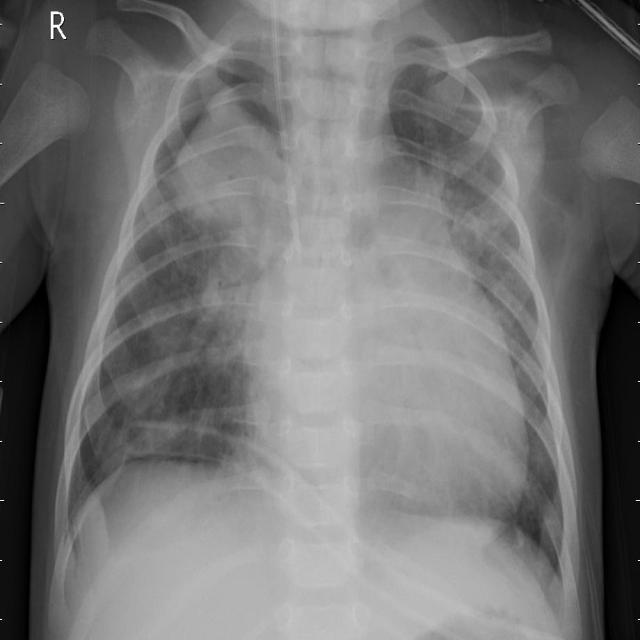low-pneumonia: (171, 79, 289, 378), (429, 117, 519, 303)
